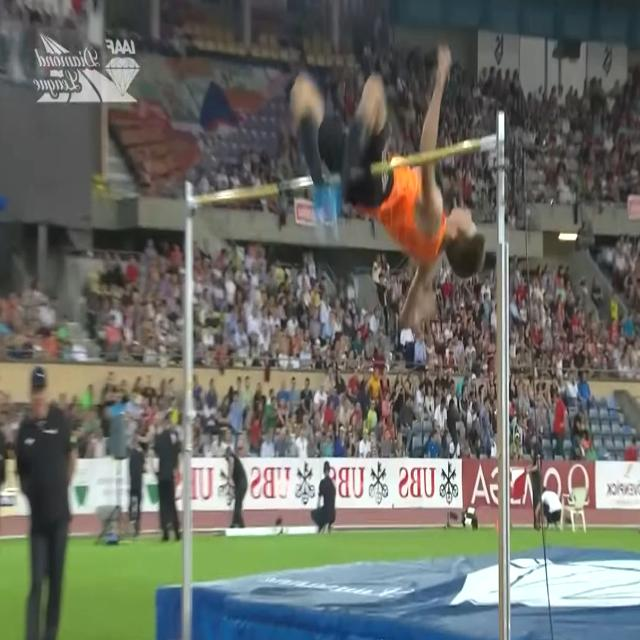jump: (294, 44, 485, 323)
